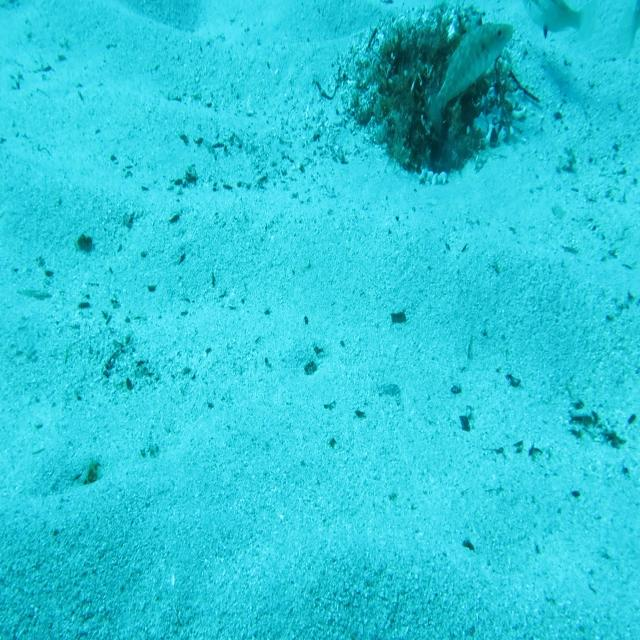LF: (421, 21, 515, 139)
core_nest: (410, 30, 460, 66)
female: (521, 0, 594, 55), (617, 0, 640, 66)
nest: (337, 0, 529, 188)
vegetation: (74, 232, 96, 253), (390, 307, 408, 326)
